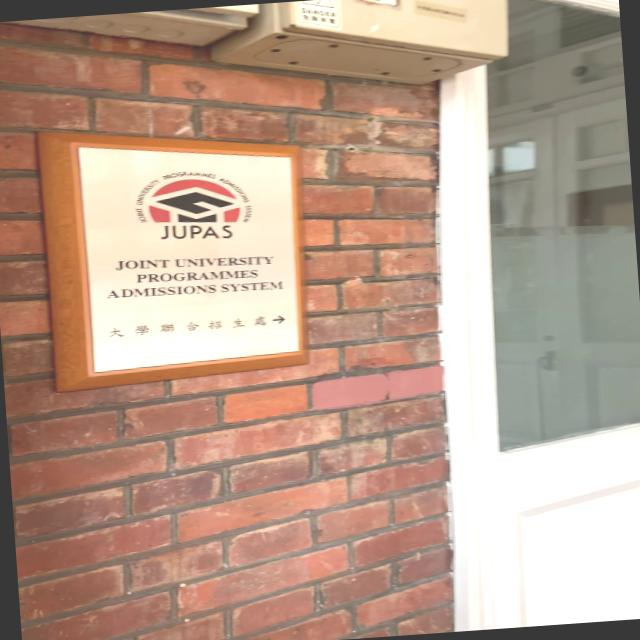jupasOffice: (24, 101, 319, 388)
